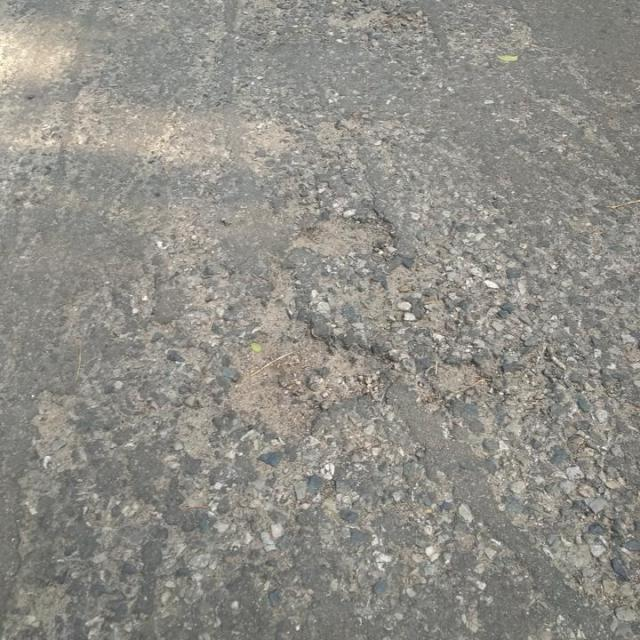Pothole: (227, 298, 401, 440), (293, 211, 401, 265), (433, 358, 497, 397)
